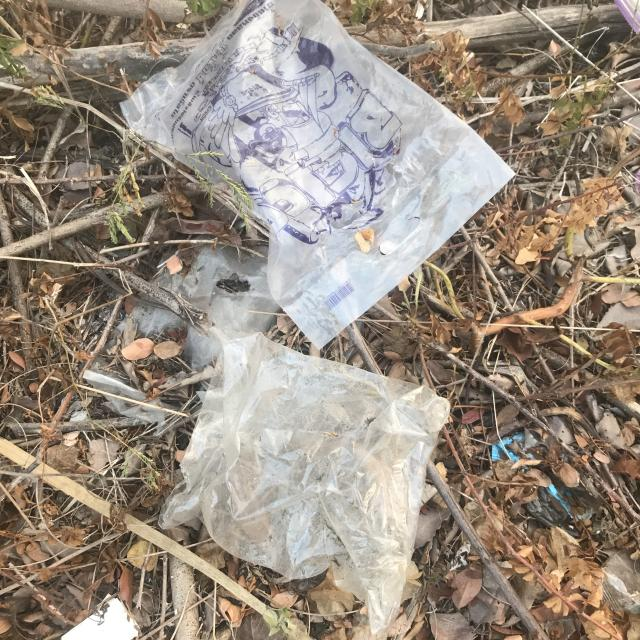Single-layer Plastic: (160, 332, 449, 634), (158, 245, 281, 334), (185, 326, 220, 371), (134, 306, 178, 338)
